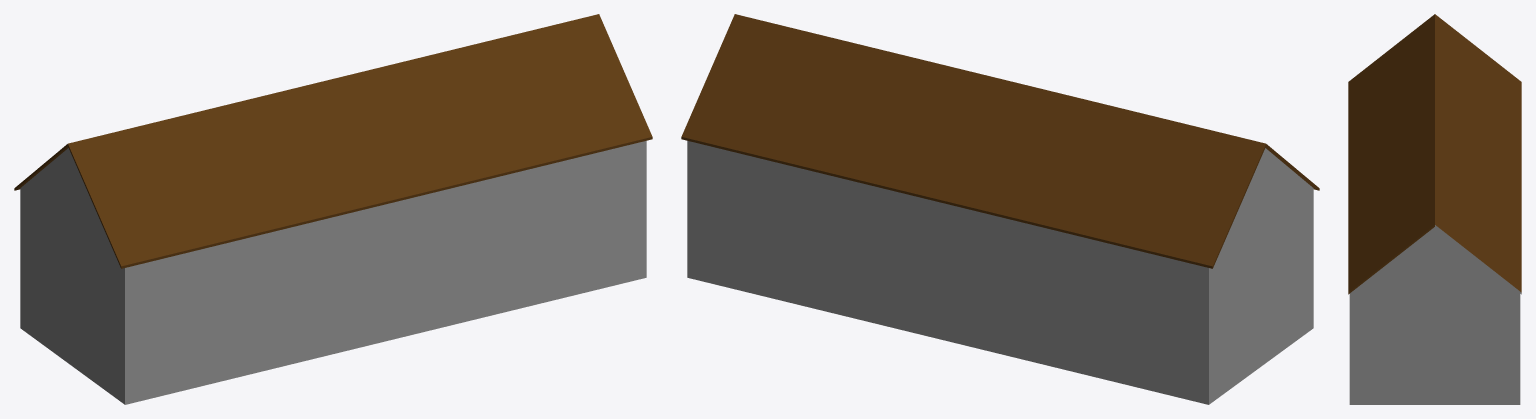
The model's file is Bungalow.fbx.
3 renders of one model, left to right at view 1: azimuth 30°, elevation 25°; view 2: azimuth 150°, elevation 25°; view 3: azimuth 270°, elevation 25°, orthographic. The views are drawn at different scales.
Visible parts, largest first — view 1: Cube; view 2: Cube; view 3: Cube.
Part boxes in pixels (bbox=[...]): Cube: bbox=[14, 14, 652, 404]; Cube: bbox=[681, 14, 1319, 404]; Cube: bbox=[1348, 14, 1521, 404].
Bounding box in the file's own units: 837 × 337 × 291.
